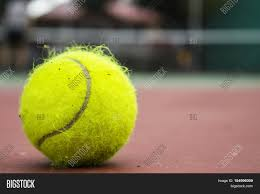tennis_ball: (19, 45, 138, 170)
